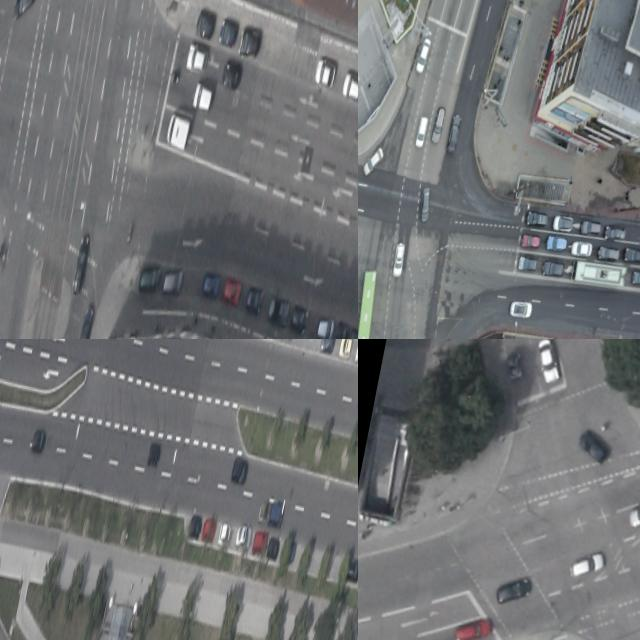UAI: (529, 339, 568, 387), (566, 546, 607, 586), (493, 571, 534, 610), (71, 231, 93, 295), (575, 428, 613, 465), (450, 611, 495, 640), (360, 144, 386, 183), (502, 350, 528, 383), (444, 112, 464, 154), (239, 24, 263, 58), (185, 43, 210, 75), (390, 240, 409, 282), (416, 185, 436, 224), (73, 304, 95, 339), (194, 9, 218, 41), (267, 295, 291, 327), (414, 37, 433, 77), (221, 58, 244, 91), (430, 103, 448, 145), (138, 264, 163, 294), (220, 276, 243, 308), (217, 17, 239, 50), (624, 491, 640, 536), (201, 269, 223, 301), (313, 60, 337, 89), (289, 304, 310, 337), (192, 82, 215, 112), (508, 297, 535, 322), (162, 267, 184, 297), (10, 0, 36, 25), (244, 285, 265, 315), (413, 116, 430, 150), (603, 222, 629, 244), (315, 312, 336, 339), (551, 213, 575, 236), (340, 71, 358, 101), (231, 458, 250, 486), (267, 500, 286, 528), (516, 253, 540, 275), (545, 234, 570, 255), (541, 260, 566, 280), (569, 239, 594, 259), (597, 244, 622, 263), (520, 231, 542, 252), (526, 210, 550, 229), (252, 529, 269, 555), (580, 219, 604, 237), (146, 441, 162, 468), (31, 428, 47, 454), (188, 513, 204, 539), (201, 516, 217, 542), (235, 525, 253, 548), (266, 535, 281, 561), (623, 244, 640, 266), (345, 557, 358, 584), (218, 521, 232, 546), (333, 319, 350, 339), (338, 339, 353, 358), (258, 501, 269, 523), (630, 268, 640, 291), (319, 339, 336, 352), (353, 339, 358, 365)
car: (358, 266, 386, 339), (570, 260, 629, 292)
harvester: (164, 113, 192, 150)
